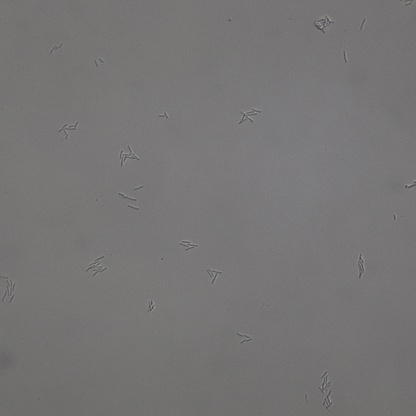R(colony): (86, 256, 107, 279), (118, 145, 140, 165), (1, 277, 16, 304), (57, 121, 78, 140), (313, 16, 333, 33), (240, 109, 261, 124), (319, 370, 331, 393), (323, 390, 335, 413), (356, 253, 366, 277), (207, 268, 222, 283), (235, 332, 252, 345), (180, 241, 198, 252), (48, 43, 63, 55), (93, 58, 105, 68), (147, 300, 155, 311)
